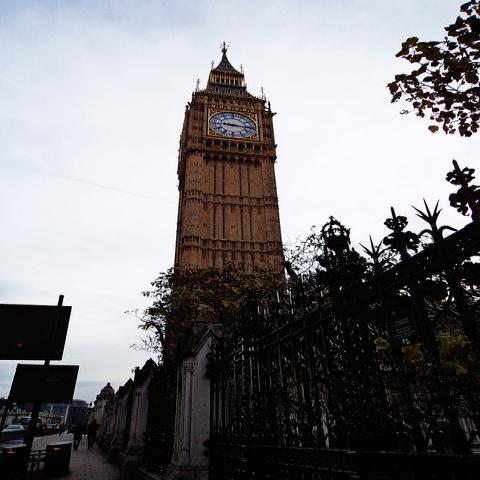car: (1, 425, 27, 444), (20, 417, 31, 429), (47, 423, 59, 433), (51, 416, 64, 423)
